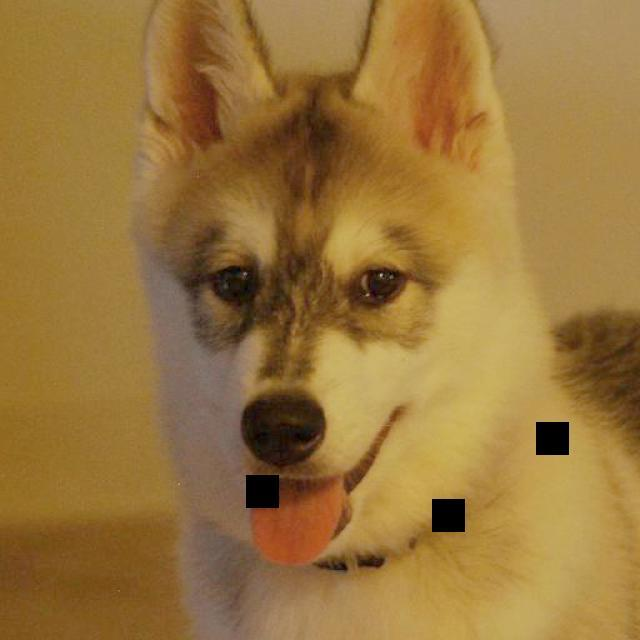puppy-dog: (117, 1, 639, 640)
